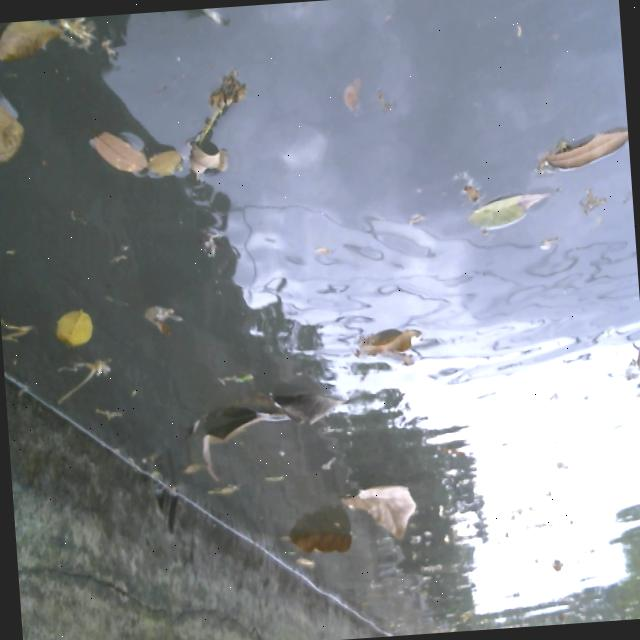Big-leaf: (168, 376, 350, 474), (341, 305, 447, 365), (340, 478, 419, 540), (0, 80, 30, 172), (284, 523, 345, 556)
Small-leaf: (527, 119, 630, 178), (415, 137, 487, 201), (460, 192, 543, 236), (96, 122, 148, 176), (0, 17, 64, 52), (179, 140, 221, 181), (55, 315, 95, 358), (279, 532, 318, 576), (67, 14, 110, 51), (330, 64, 363, 111), (199, 366, 256, 392), (192, 483, 235, 514), (249, 468, 290, 495), (139, 306, 181, 331), (155, 147, 187, 179), (309, 451, 344, 479)
